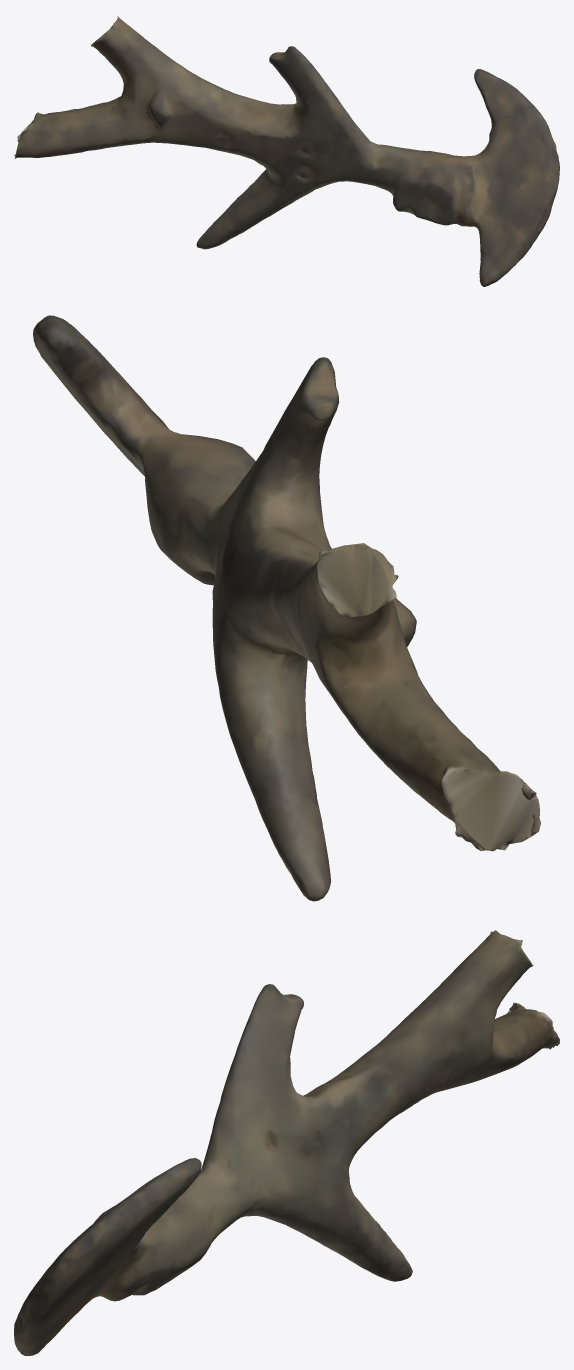
The picture shows the model from 3 angles, top to bottom: view 1: azimuth 30°, elevation 25°; view 2: azimuth 150°, elevation 25°; view 3: azimuth 270°, elevation 25°; orthographic projection. The views are drawn at different scales.
Bounding box in the file's own units: 1.1 × 0.6081 × 0.9319.
